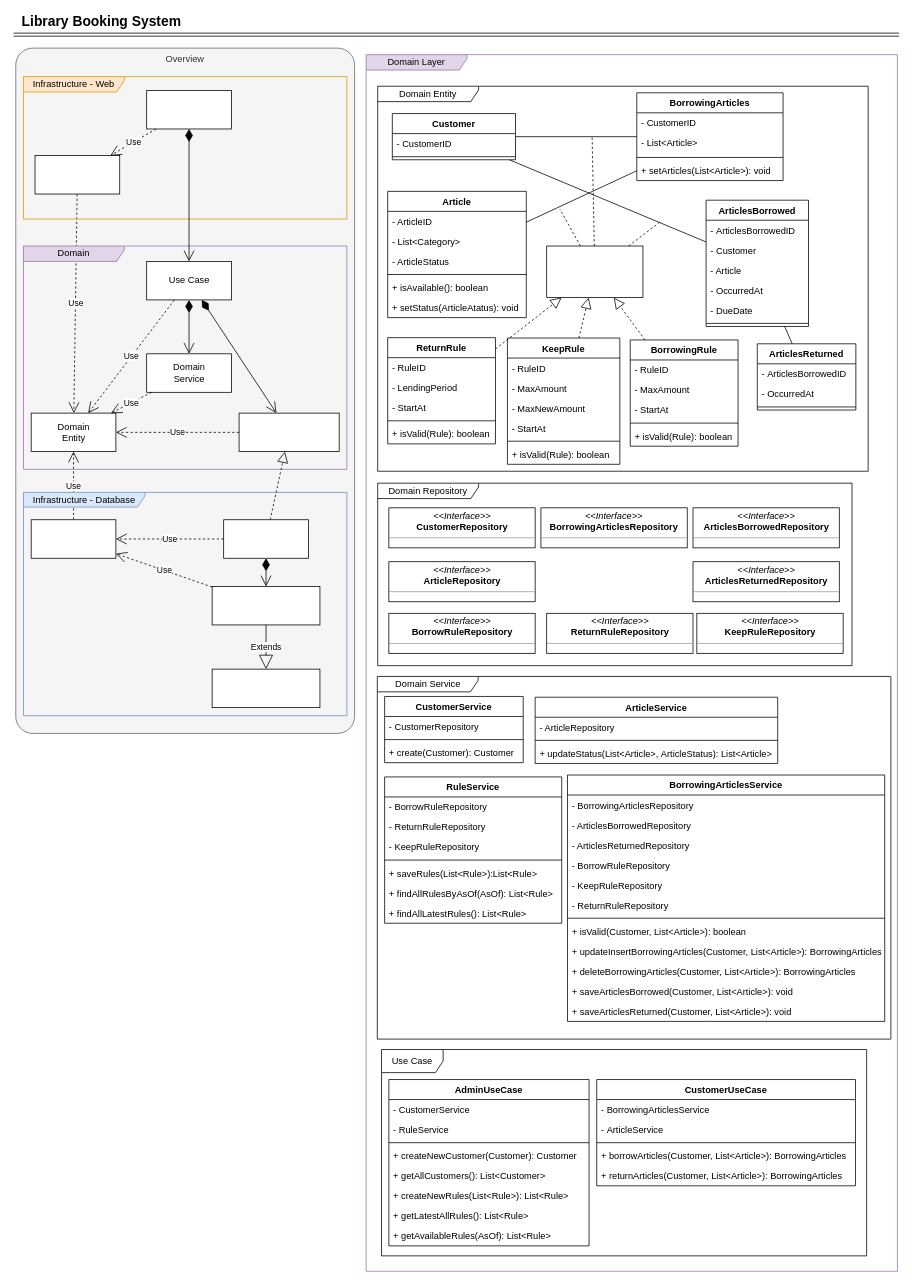
This 912x1284 diagram has some shape labels left out. The centre of each missing label's shape, as x and y in pixels:
<<Interface>> Rule isValid(Rule) boolean: (x=594, y=271)
Database Model: (x=73, y=538)
Database Repository: (x=265, y=538)
REST Controller: (x=188, y=109)
REST Resource: (x=77, y=174)
«interface» Database Repository: (x=265, y=605)
«interface» Domain Repository: (x=288, y=432)
«interface» Spring JPA Repository: (x=265, y=688)
